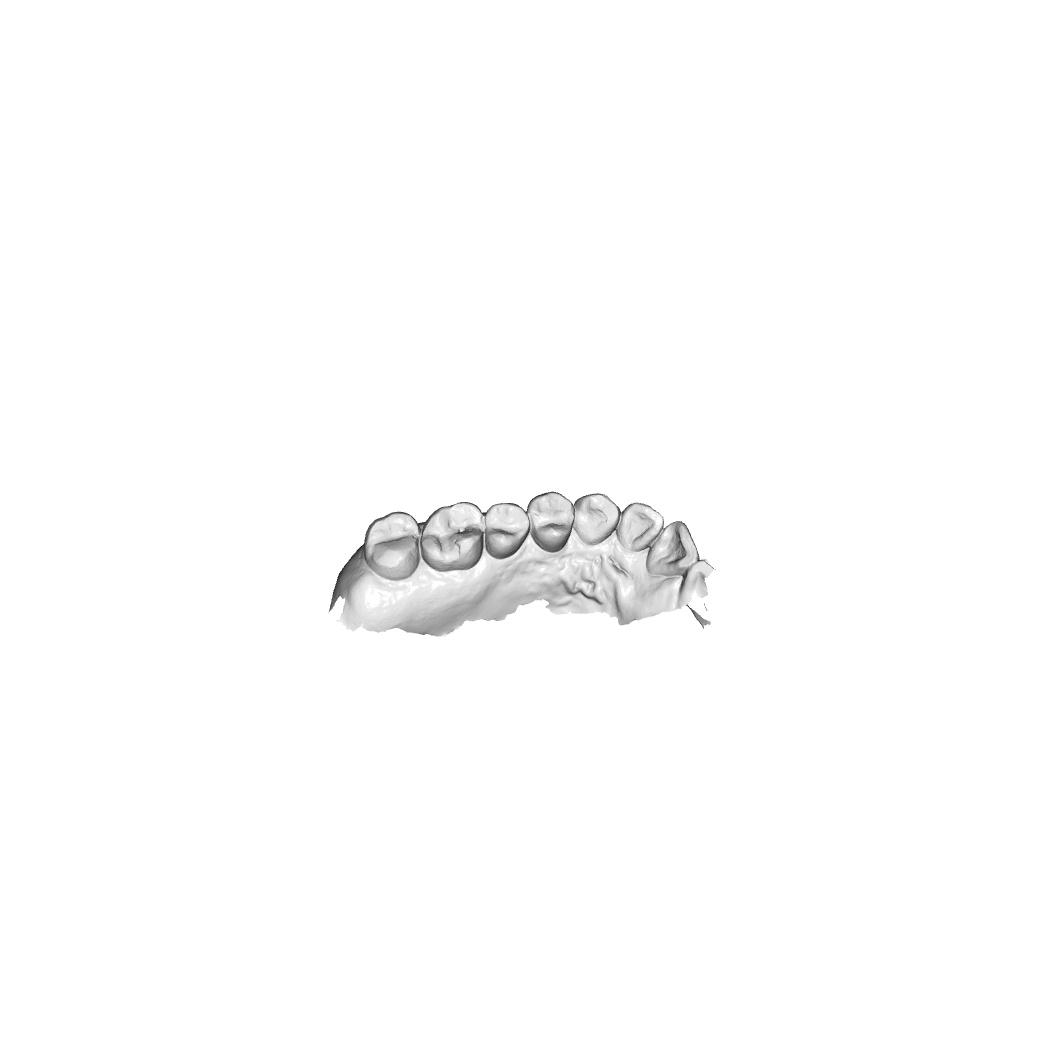canine: (573, 492, 622, 547)
incisor: (645, 520, 700, 577), (615, 501, 665, 552)
molar: (419, 500, 485, 574), (362, 510, 421, 582)
premolar: (526, 489, 576, 554), (484, 500, 531, 561)
